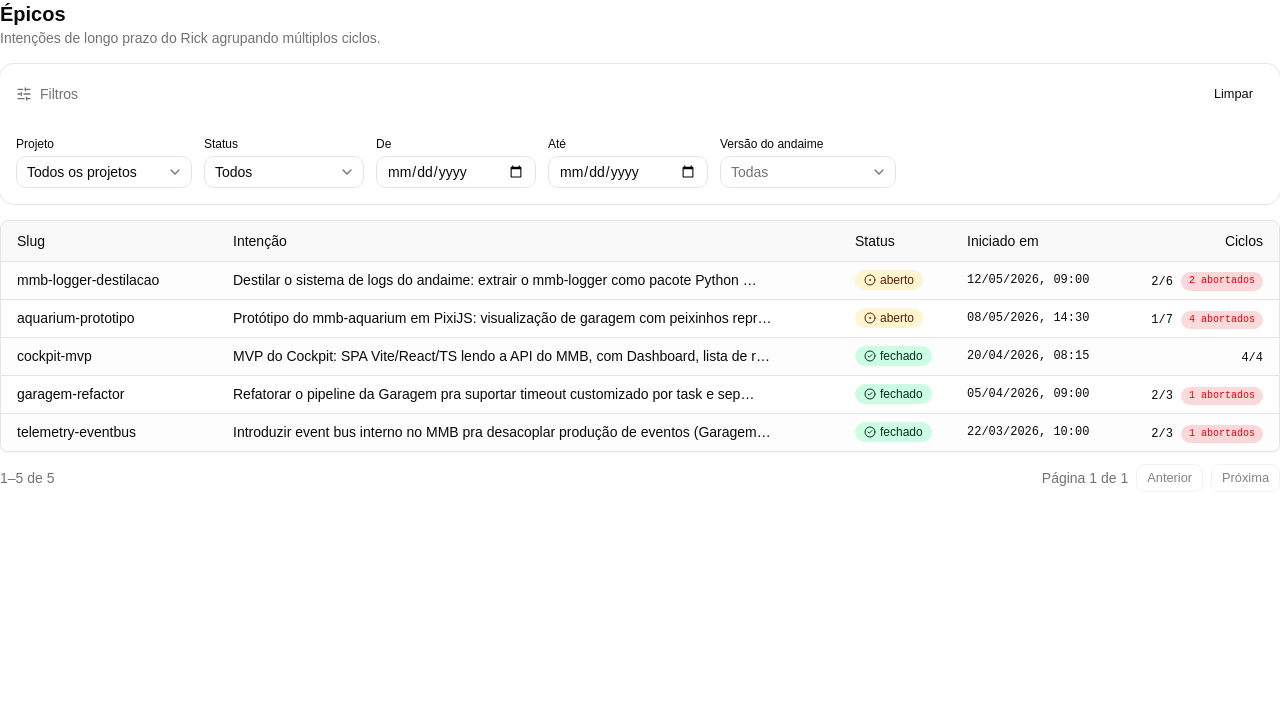
Test: EpicosListPage › filtra a lista quando uma tag de andaime_version é marcada
Check: the text "mmb-logger-destilacao" is shown, box [1, 261, 225, 299]
Check: the text "aquarium-prototipo" is shown, box [1, 299, 225, 337]
Click the dropdown named "versão do andaime" at (808, 172), box [720, 156, 896, 188]
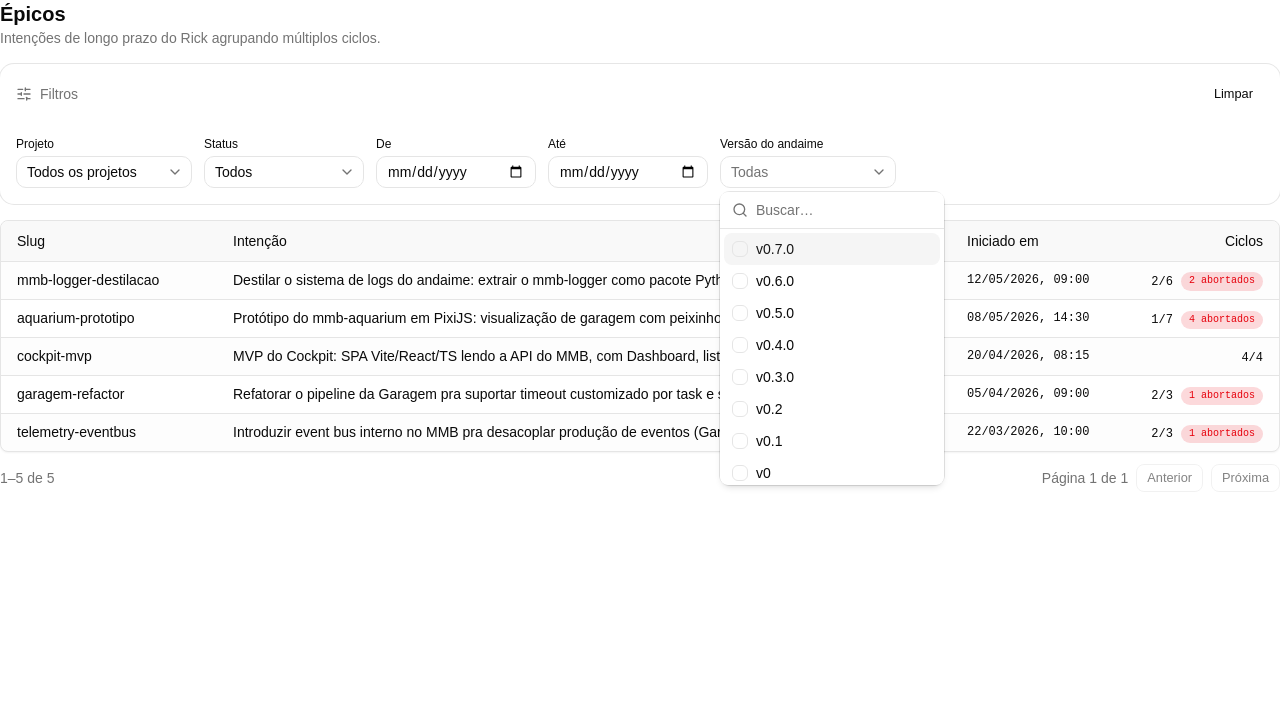
Click the option "v0.5.0" at (763, 313), box [732, 305, 794, 321]
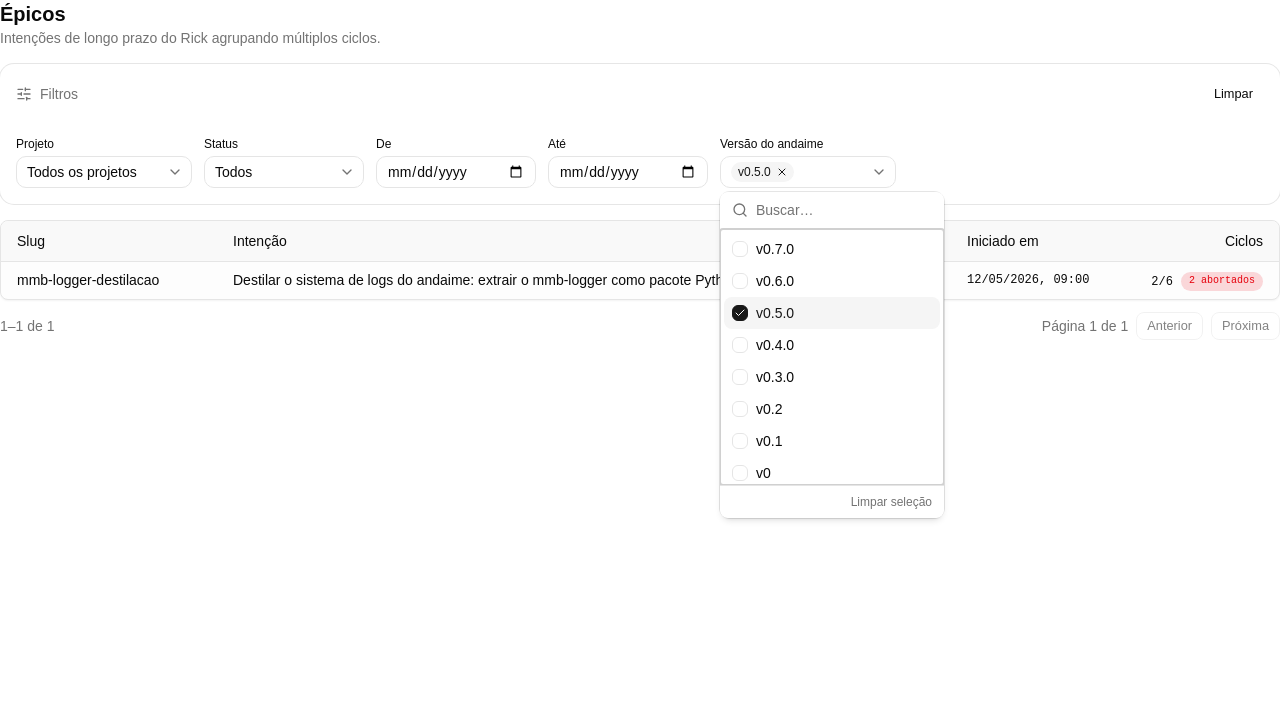
Check: the text "mmb-logger-destilacao" is shown, box [1, 261, 225, 299]
Check: the text "aquarium-prototipo" is gone
// desmarcar volta a mostrar tudo
Click the option "v0.5.0" at (832, 313), box [724, 297, 940, 329]
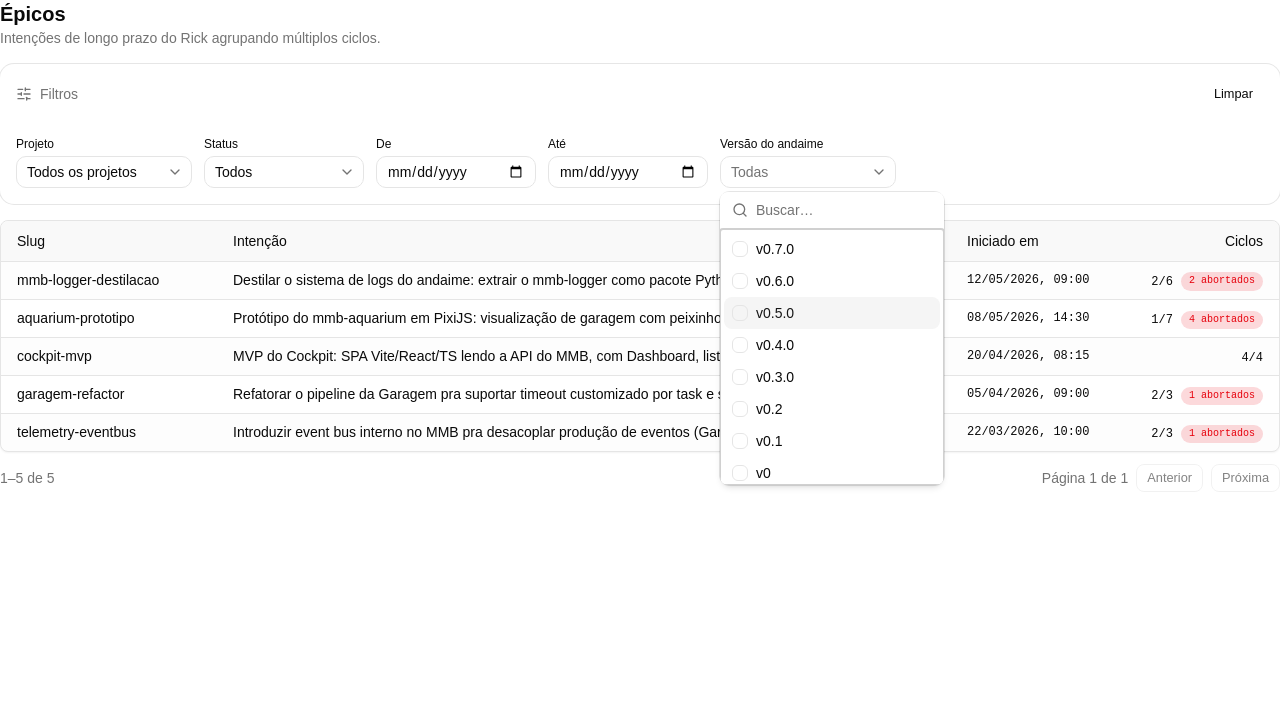
Check: the text "aquarium-prototipo" is shown, box [1, 299, 225, 337]
